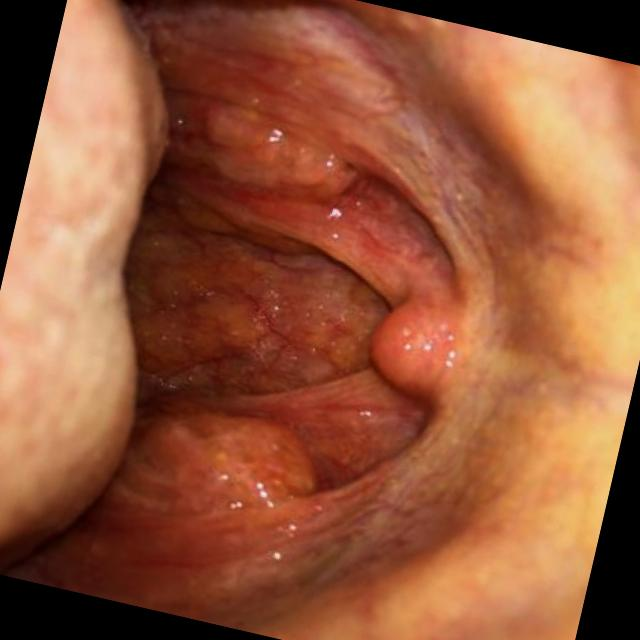Non Pharyngitis: (62, 344, 364, 595), (148, 42, 398, 248)
